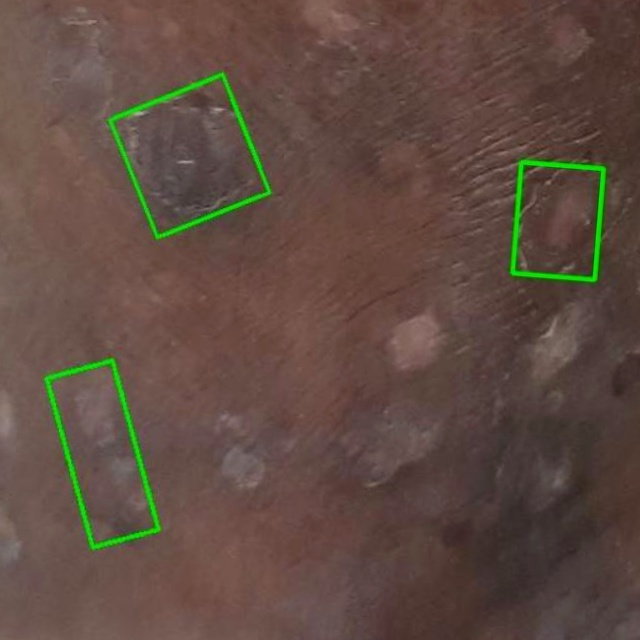Contact Dermatitis: (110, 74, 270, 238), (47, 361, 159, 547), (512, 162, 603, 279)
